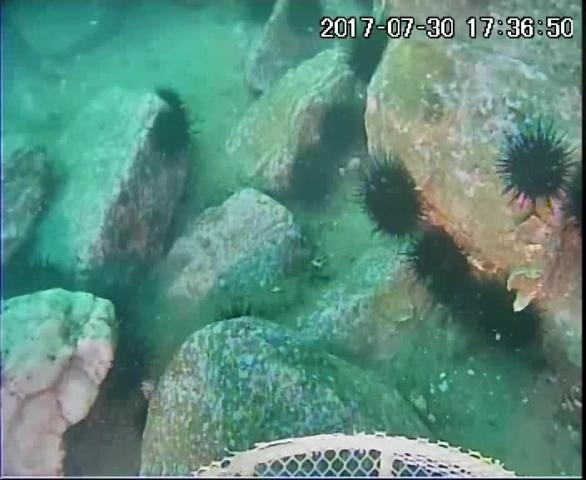echinus: (492, 121, 580, 216), (460, 277, 545, 355), (354, 155, 429, 242), (403, 227, 479, 310), (99, 332, 156, 406), (2, 253, 76, 308), (342, 21, 398, 88), (145, 99, 197, 163), (285, 149, 339, 210), (314, 99, 368, 158), (280, 1, 330, 40), (237, 0, 281, 30)
